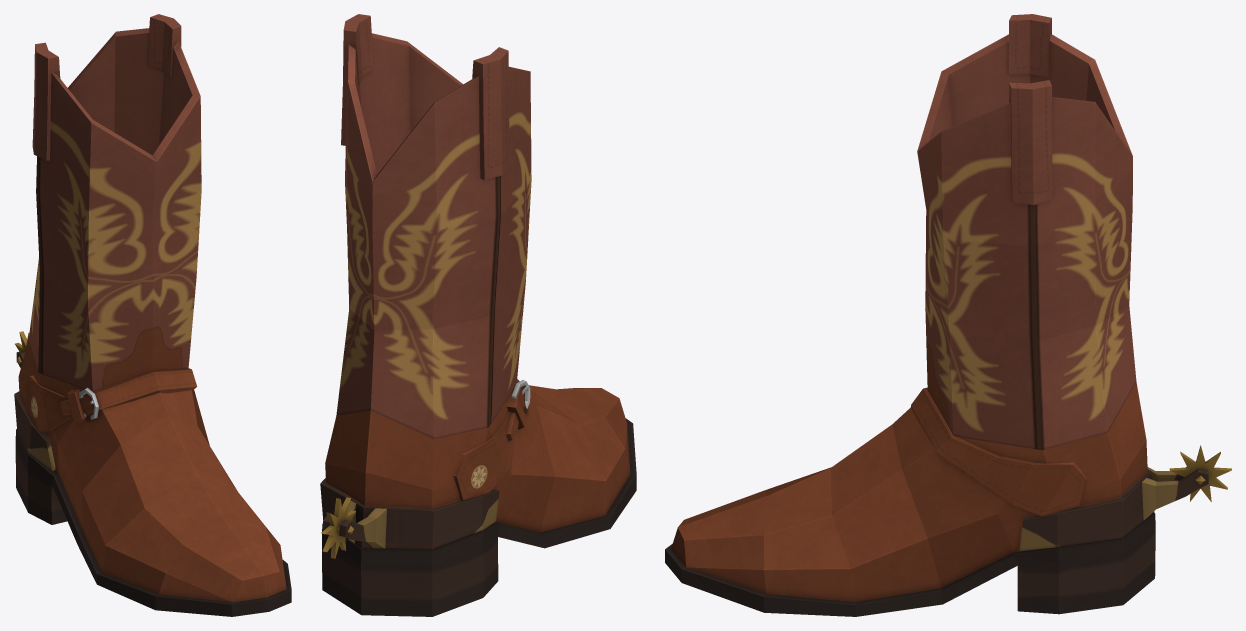
The model's file is cowboyBootRight.obj.
The picture shows the model from 3 angles, left to right: view 1: azimuth 30°, elevation 25°; view 2: azimuth 150°, elevation 25°; view 3: azimuth 270°, elevation 25°; orthographic projection. The views are drawn at different scales.
Parts seen in each view (by area): view 1: CowboyBoots_Mesh; view 2: CowboyBoots_Mesh; view 3: CowboyBoots_Mesh.
Part boxes in pixels (left/top/right/bottom): CowboyBoots_Mesh: left=14, top=14, right=291, bottom=616; CowboyBoots_Mesh: left=320, top=14, right=636, bottom=616; CowboyBoots_Mesh: left=665, top=14, right=1231, bottom=616.
Bounding box in the file's own units: 0.9083 × 2.58 × 2.51.
